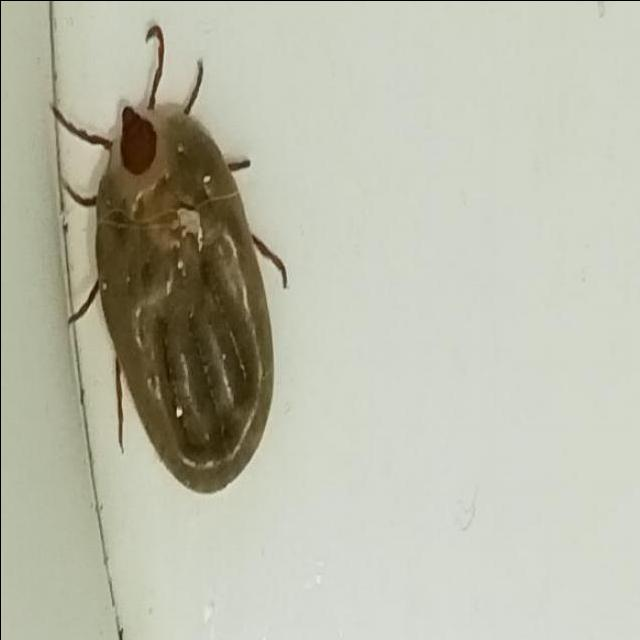Rhipicephalus Sanguineus-F-Fed: (50, 23, 288, 496)
